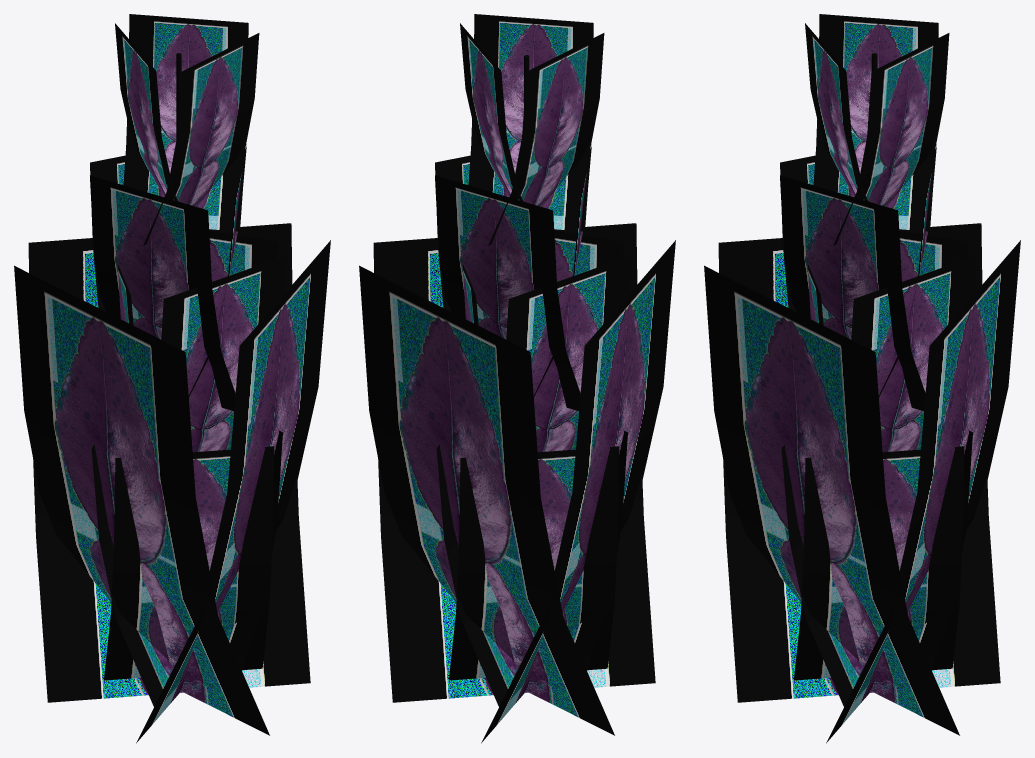
File: plante_2_1.FBX
3 views of the same model, side by side, from view 1: azimuth 30°, elevation 25°; view 2: azimuth 150°, elevation 25°; view 3: azimuth 270°, elevation 25° (orthographic).
Visible parts, largest first — view 1: Plane074; view 2: Plane074; view 3: Plane074.
Boxes of the visible parts, <box> form: Plane074: <box>14,14,330,743</box>; Plane074: <box>359,14,675,743</box>; Plane074: <box>704,14,1020,743</box>.
Size of the model in its own units: 98.27 by 232 by 102.
Materials: 1 (1 with a texture image).
